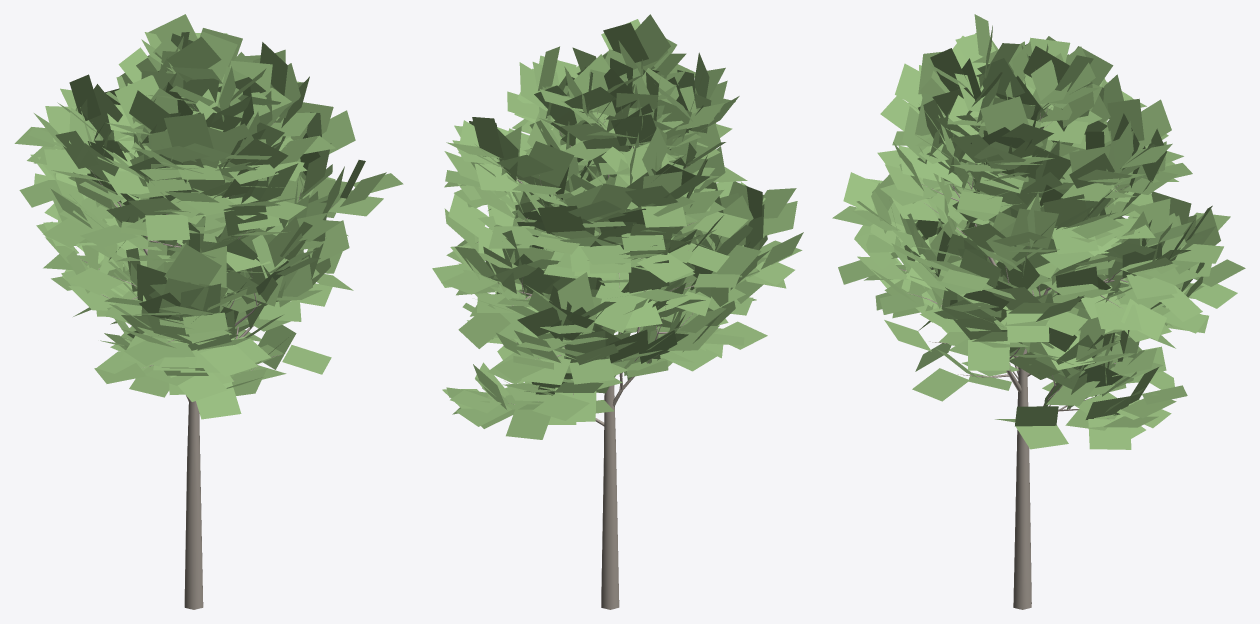
File: tree_b.glb
3 views of the same model, side by side, from view 1: azimuth 30°, elevation 25°; view 2: azimuth 150°, elevation 25°; view 3: azimuth 270°, elevation 25° (orthographic). The views are drawn at different scales.
Visible parts, largest first — view 1: tree; view 2: tree; view 3: tree.
Part boxes in pixels (left/top/right/bottom): tree: left=14, top=14, right=403, bottom=609; tree: left=432, top=14, right=803, bottom=609; tree: left=832, top=14, right=1245, bottom=609.
Bounding box in the file's own units: 6.27 × 11.55 × 7.43.
